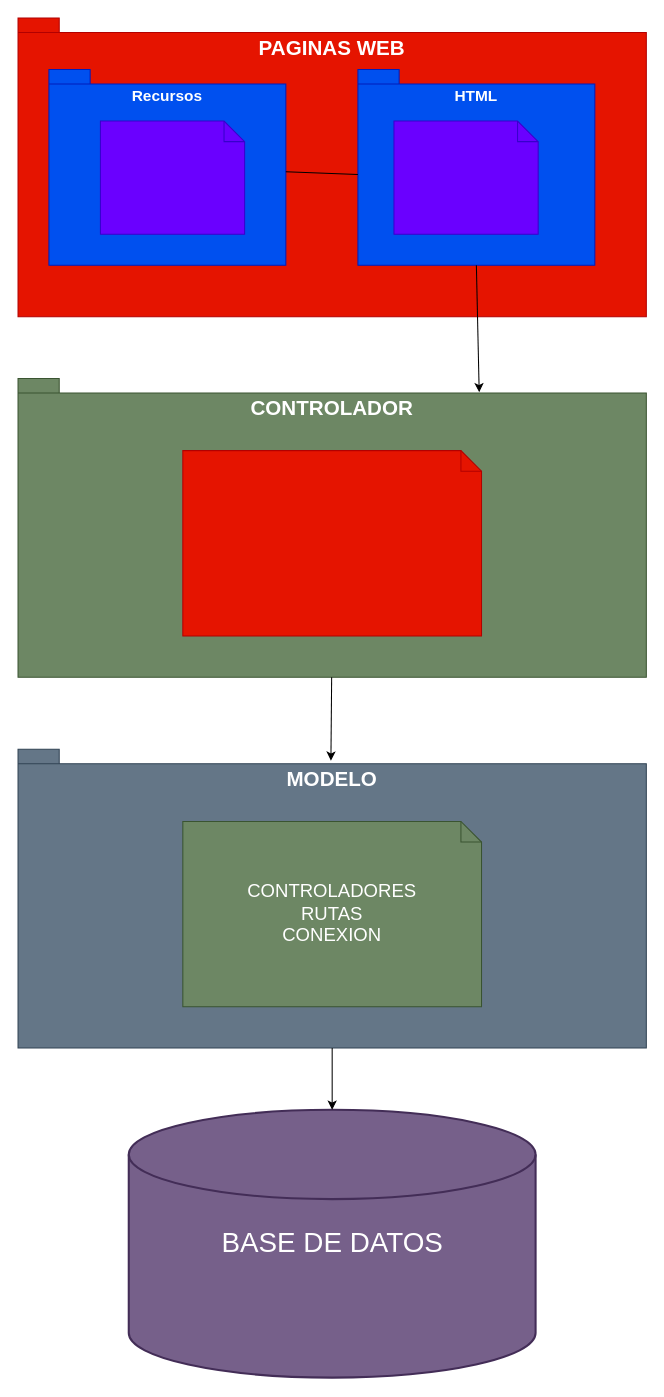
Some shapes in this 664 by 1397 pixel diagram are drawn without their labels. The box of each missing label's shape, as (x1, y1, x2, y2) in pixels:
COMPONENTES GUARDAS SERVICIOS RUTAS: (182, 450, 482, 636)
index.html component.html: (393, 120, 538, 234)
SCSS Imagenes: (99, 120, 245, 234)
